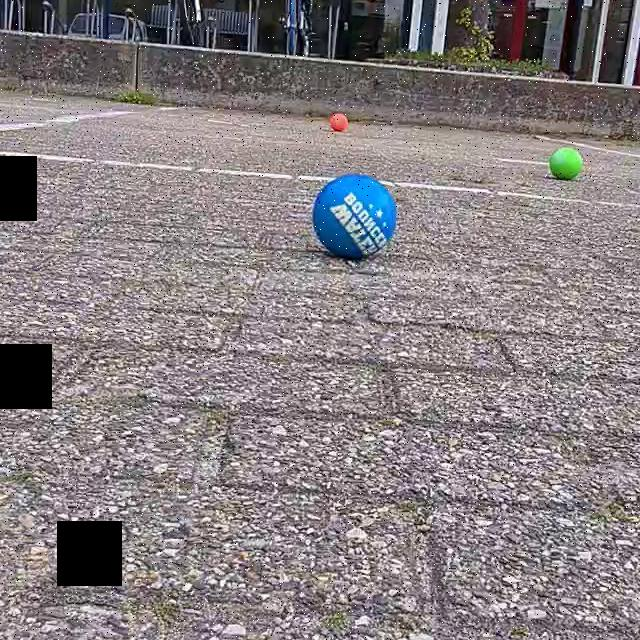ball: (546, 144, 584, 184), (325, 108, 351, 135)
